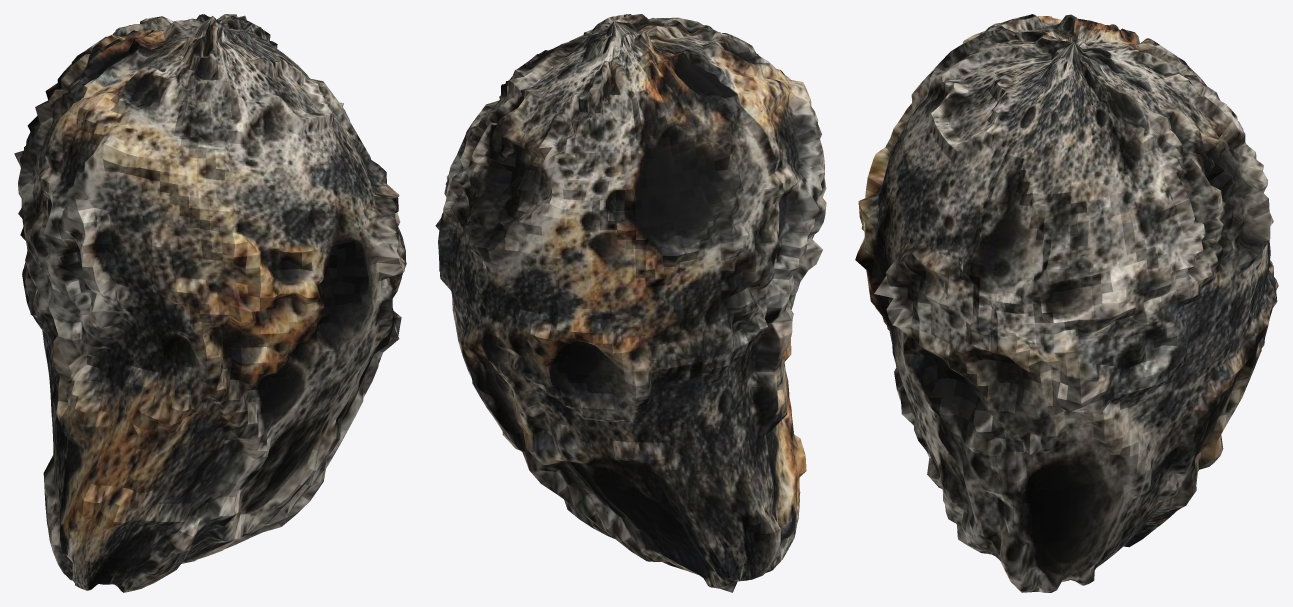
The picture shows the model from 3 angles, left to right: view 1: azimuth 30°, elevation 25°; view 2: azimuth 150°, elevation 25°; view 3: azimuth 270°, elevation 25°; orthographic projection. The views are drawn at different scales.
Parts seen in each view (by area): view 1: Sphere; view 2: Sphere; view 3: Sphere.
Part boxes in pixels (left/top/right/bottom): Sphere: left=14, top=14, right=406, bottom=592; Sphere: left=435, top=14, right=826, bottom=592; Sphere: left=855, top=14, right=1278, bottom=592.
Size of the model in its own units: 2.15 by 3.12 by 2.09.
1 material, 1 textured.
